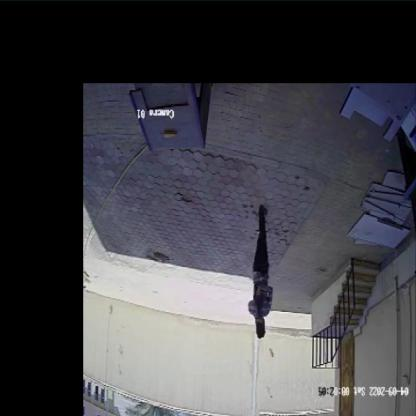handgun: (254, 277, 270, 316)
